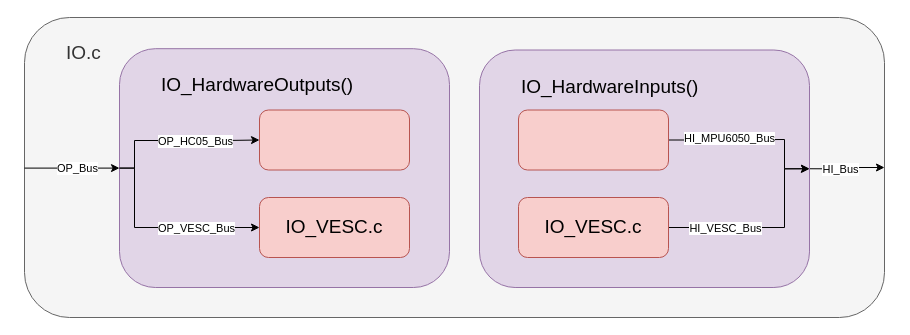
Image size: 910x335. Some labels were removed from this diagram. Each missing label, with the box of its shape:
IO_HC05.c: (258, 109, 410, 170)
IO_MPU6050.c: (518, 109, 668, 170)
